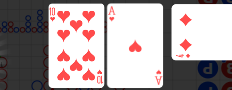10H: (50, 7, 57, 24)
4D: (175, 53, 192, 60)
AH: (108, 6, 117, 24)
